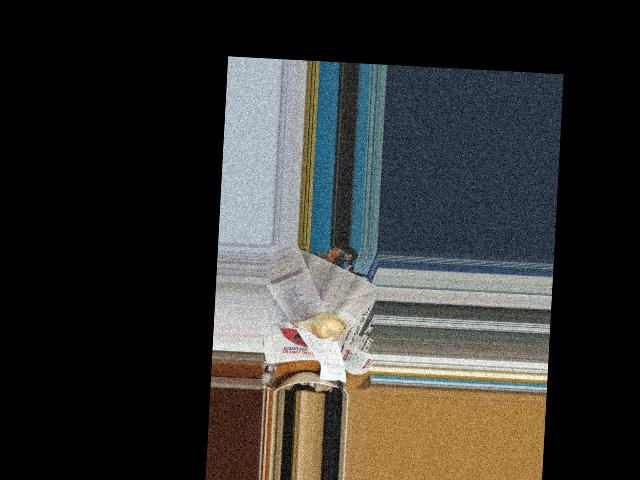onion: (299, 311, 347, 341)
